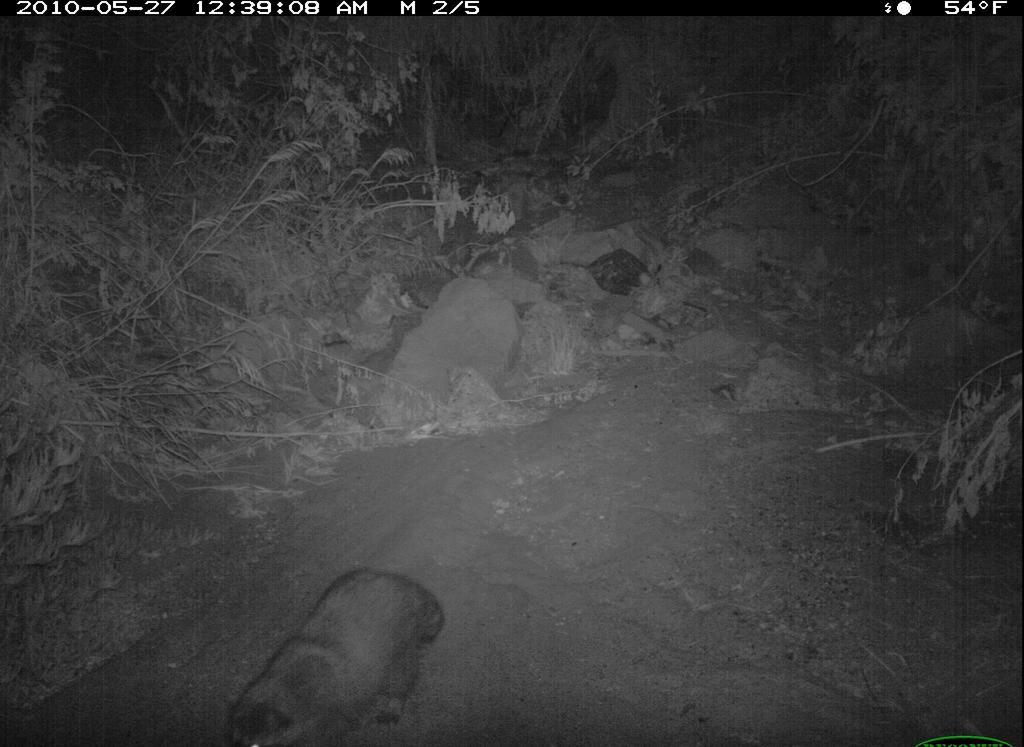raccoon: (214, 564, 457, 747)
